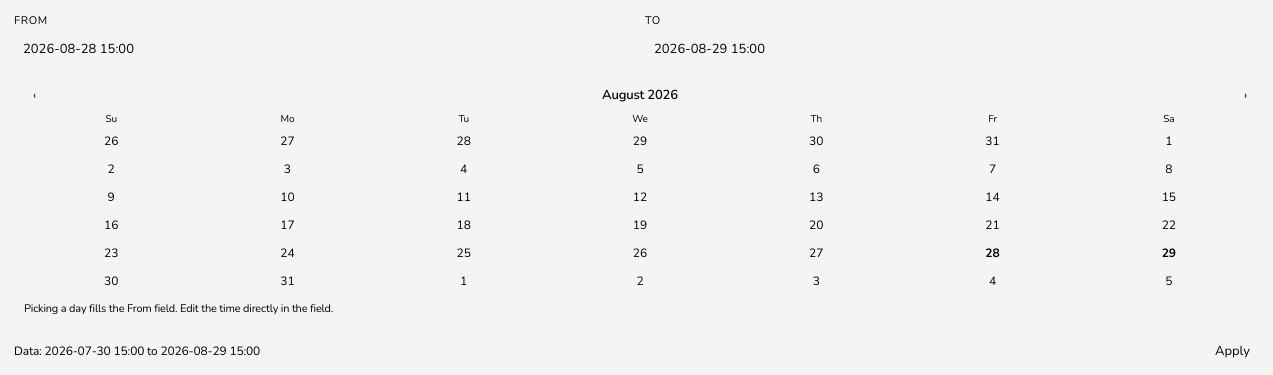
Test: AbsoluteRangeComponent › follows the field the reader focuses, and steps through months
Click the button with class "month-calendar-step" showing "›".
click(1245, 95)  # box [1235,85,1256,105]
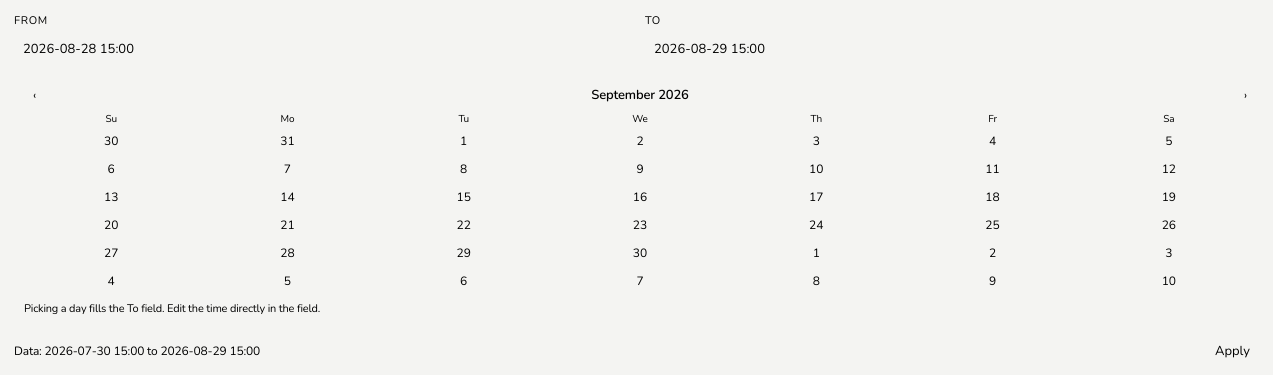
Expected: the text with class "month-calendar-title" reads "September 2026", [591,86,689,104]
